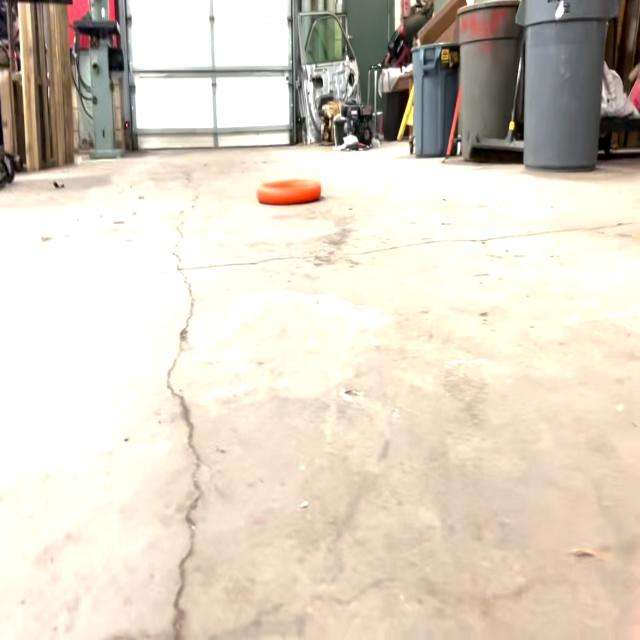note: (257, 177, 322, 206)
